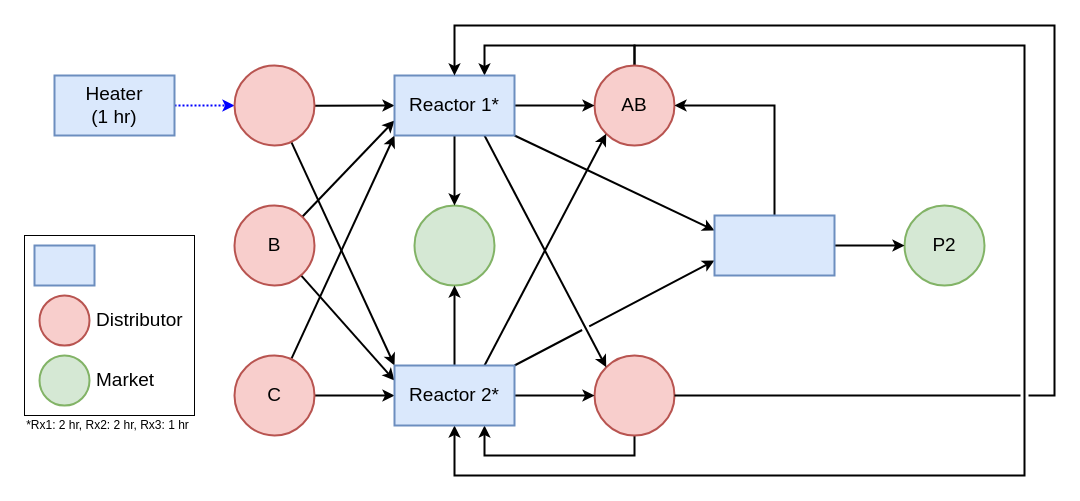
Image size: 1080x501. Some labels were removed from this diagram. Each missing label, with the box of its shape:
BC: (593, 354, 675, 436)
Hot A: (233, 64, 315, 146)
P1: (413, 204, 495, 286)
Producer: (33, 244, 95, 286)
Still (2 hr): (713, 214, 835, 276)
